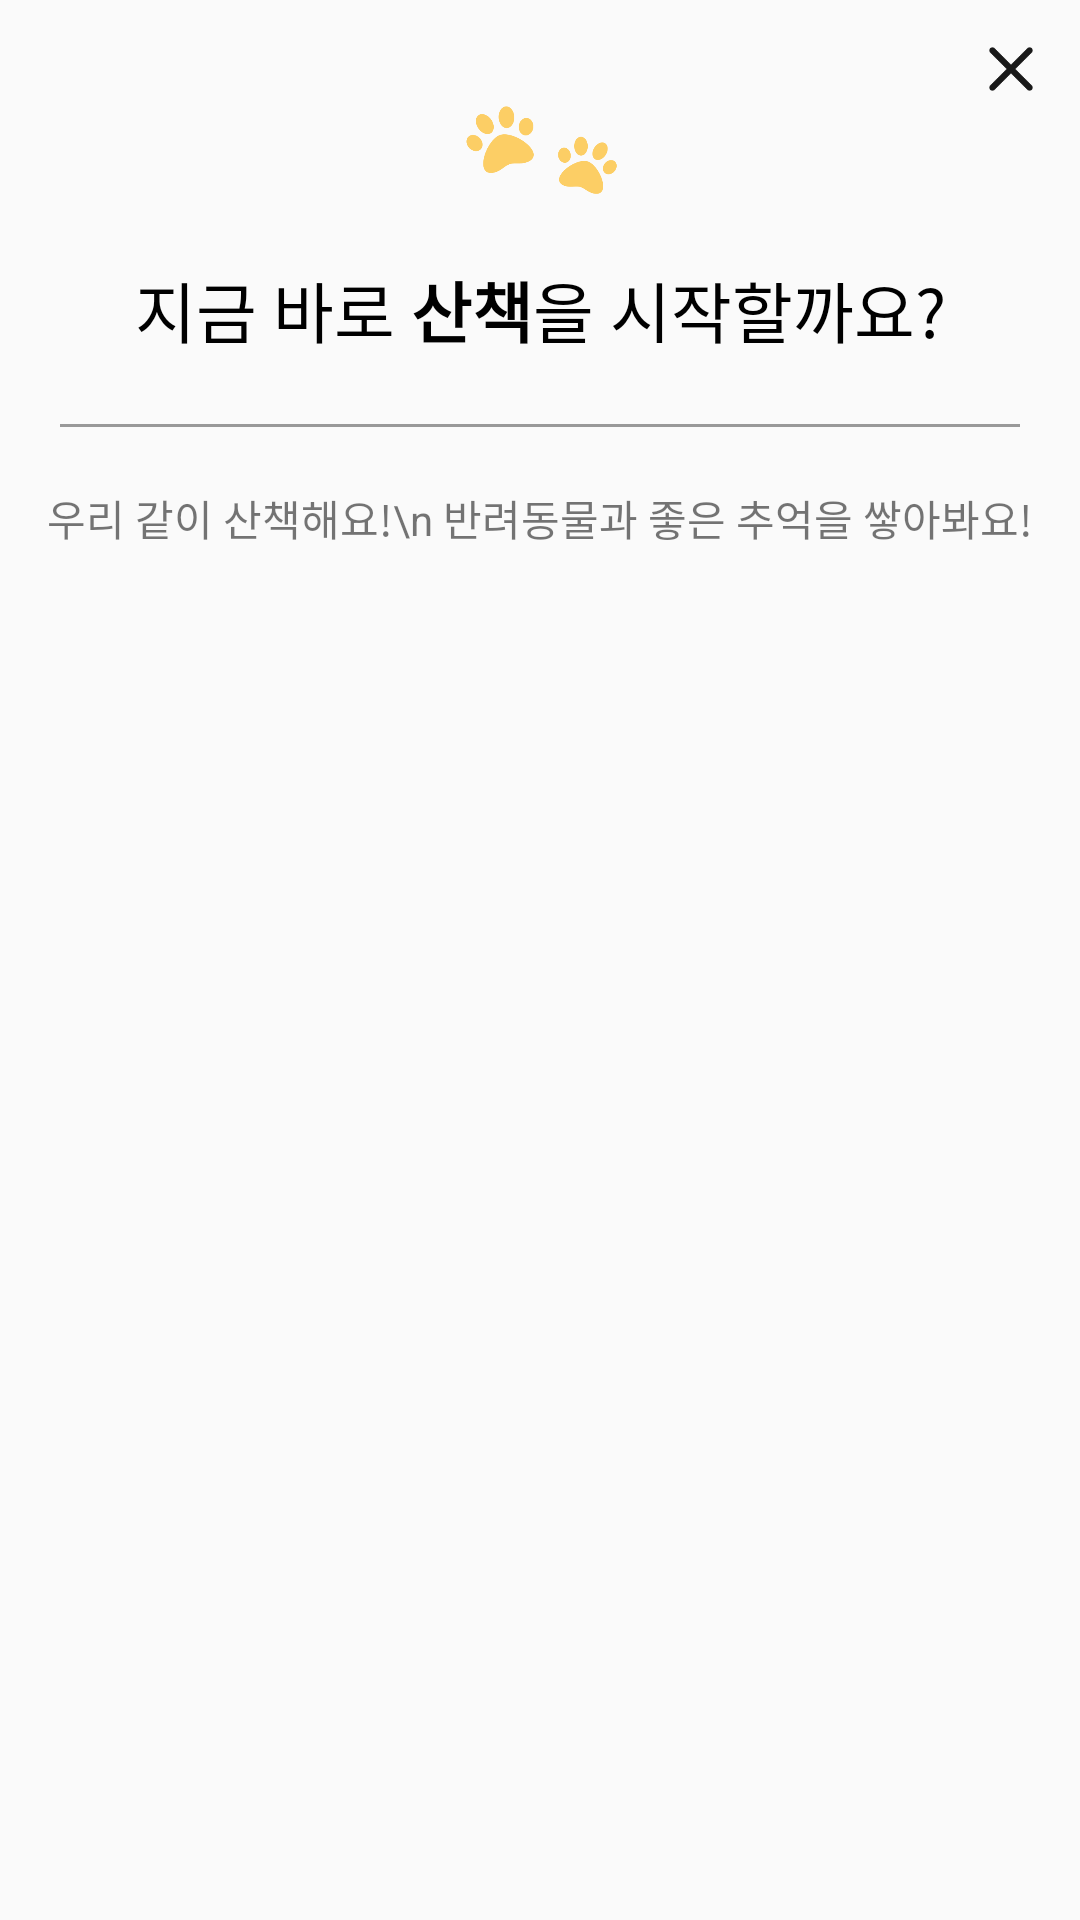

Icon bounding boxes for this 1080×1920 phone screenshot, format (x1, y1, x2, y2):
double foot: (466, 106, 617, 194)
